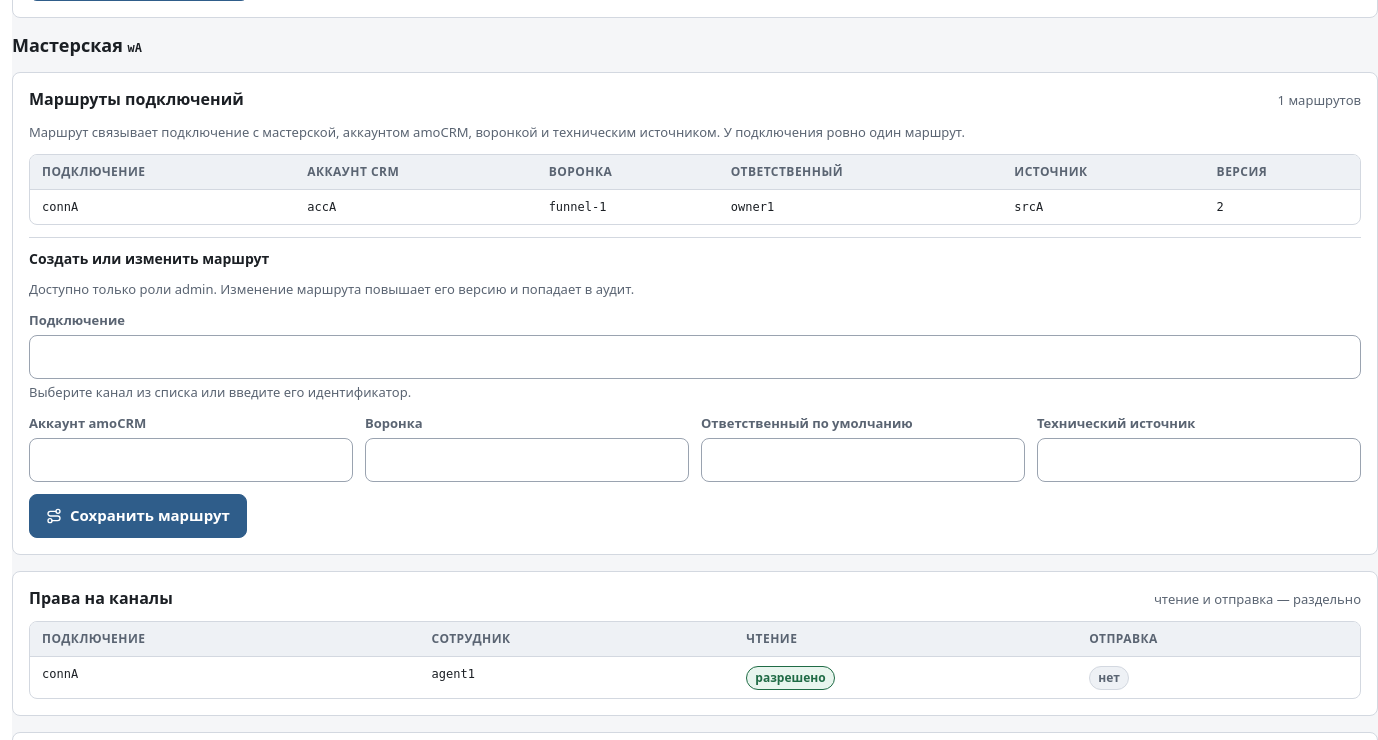
Test: страница мастерских › сохраняет маршрут с текущей версией и сообщает о конфликте
(page scrolled)
Step 1. Type "connA" into the field labelled "Подключение" → (695, 356), box [29, 334, 1361, 378]
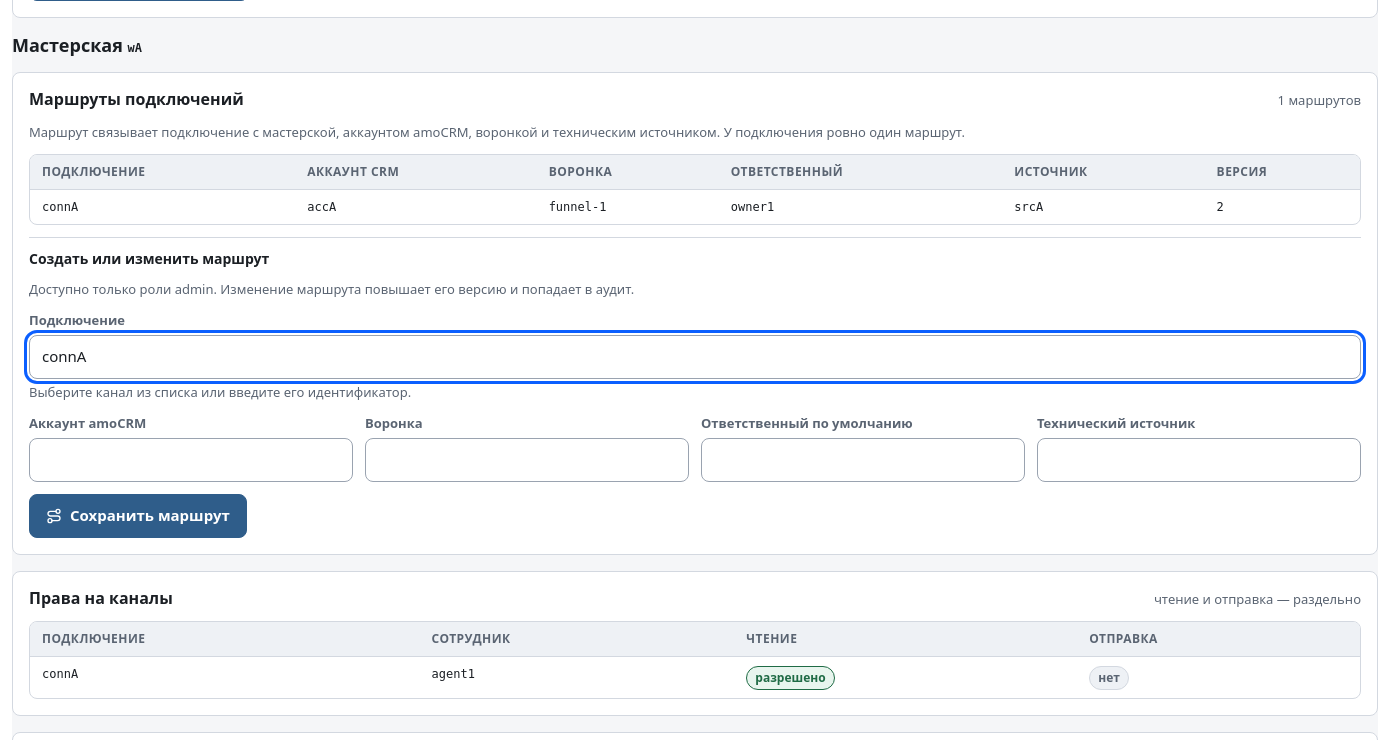
Step 2. Type "accA" into the field labelled "Аккаунт amoCRM" → (191, 460), box [29, 438, 353, 482]
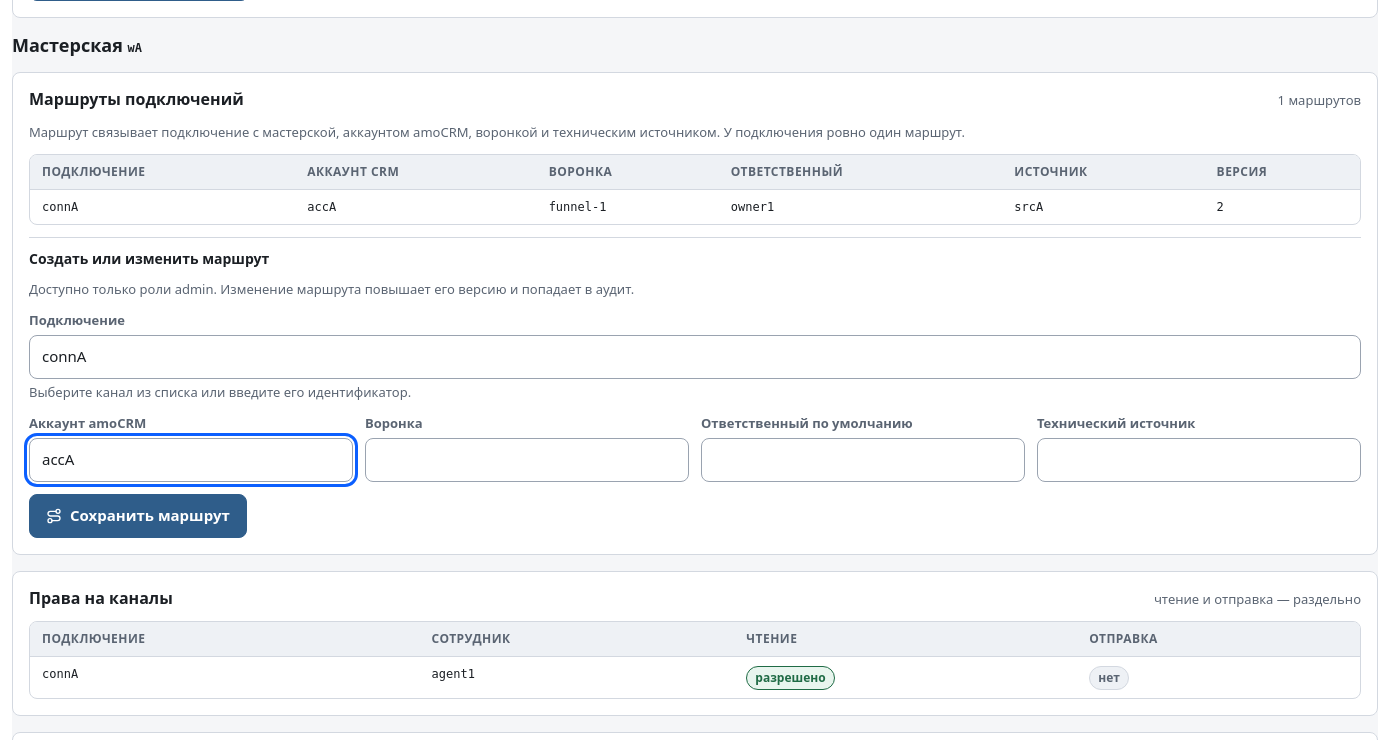
Step 3. Type "funnel-2" into the field labelled "Воронка" → (527, 460), box [365, 438, 689, 482]
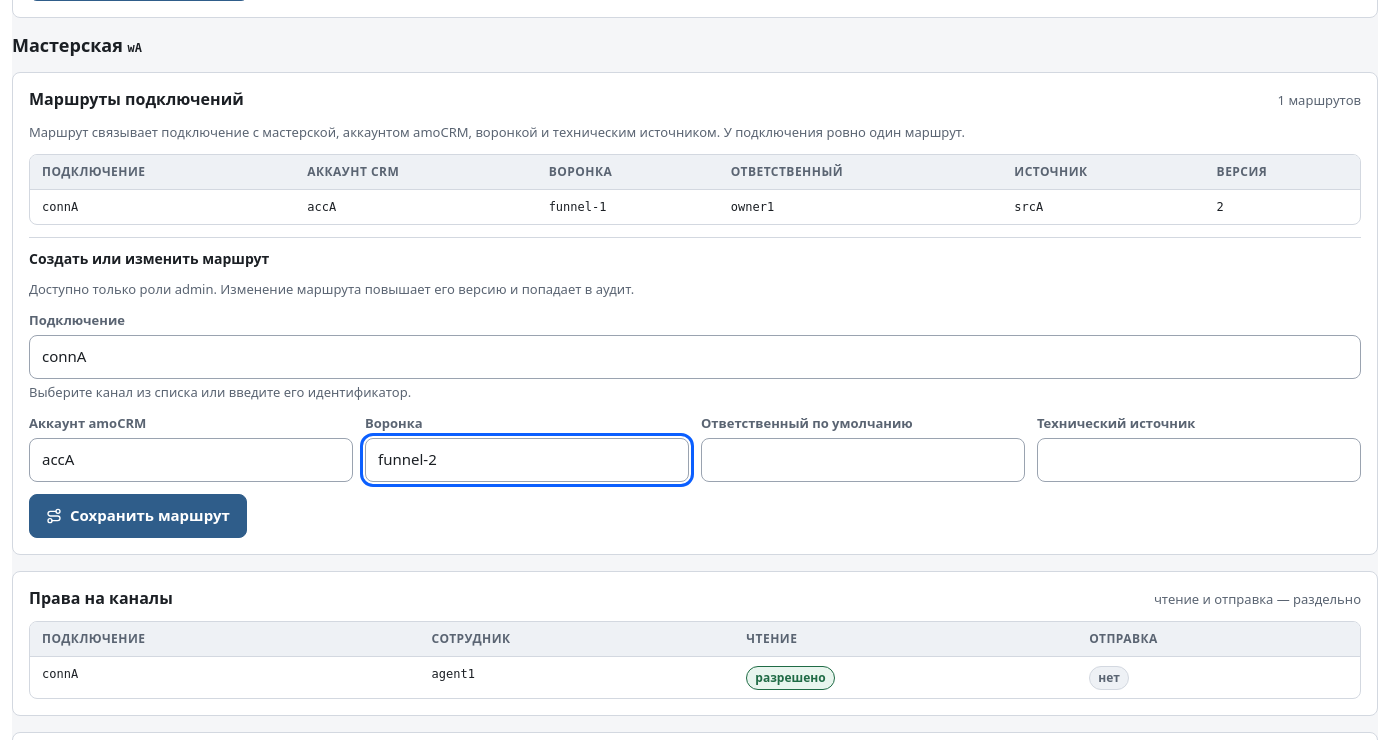
Step 4. Type "owner1" into the field labelled "Ответственный по умолчанию" → (863, 460), box [701, 438, 1025, 482]
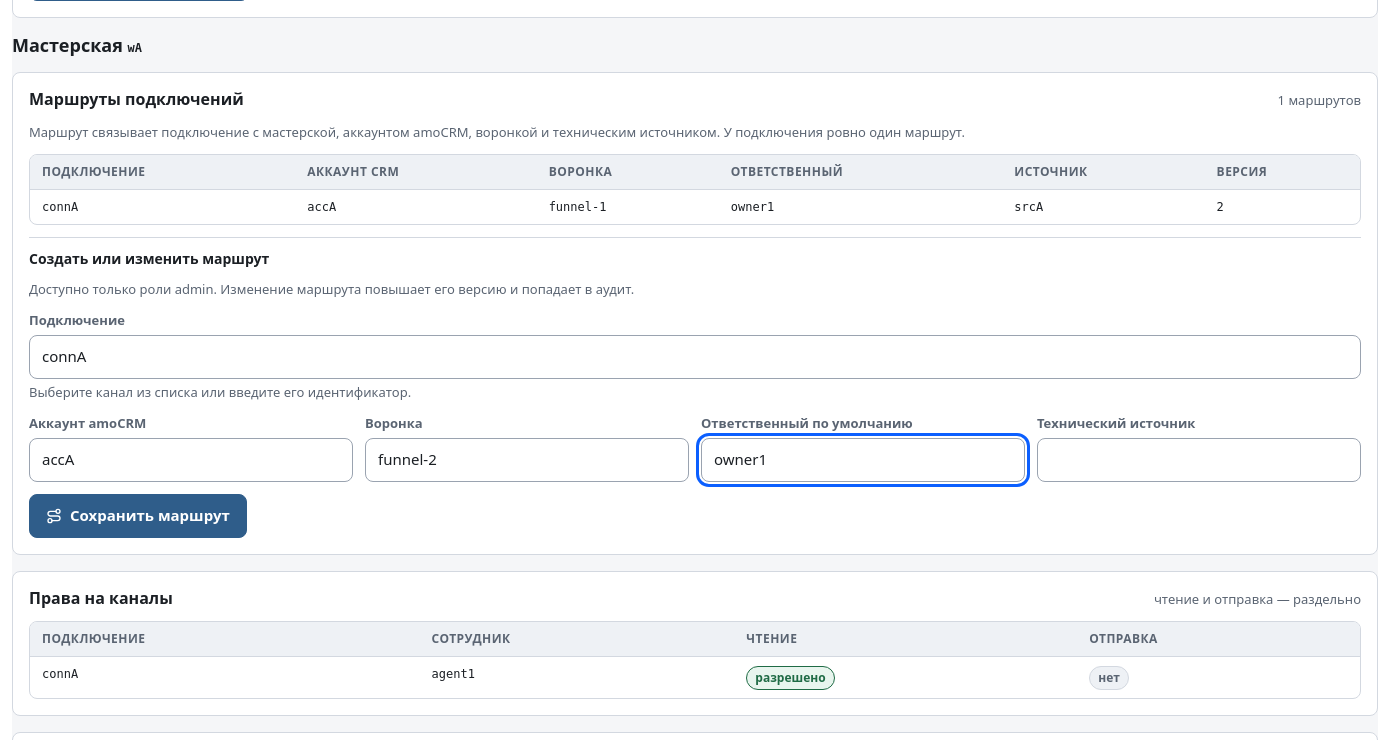
Step 5. Type "srcA" into the field labelled "Технический источник" → (1199, 460), box [1037, 438, 1361, 482]
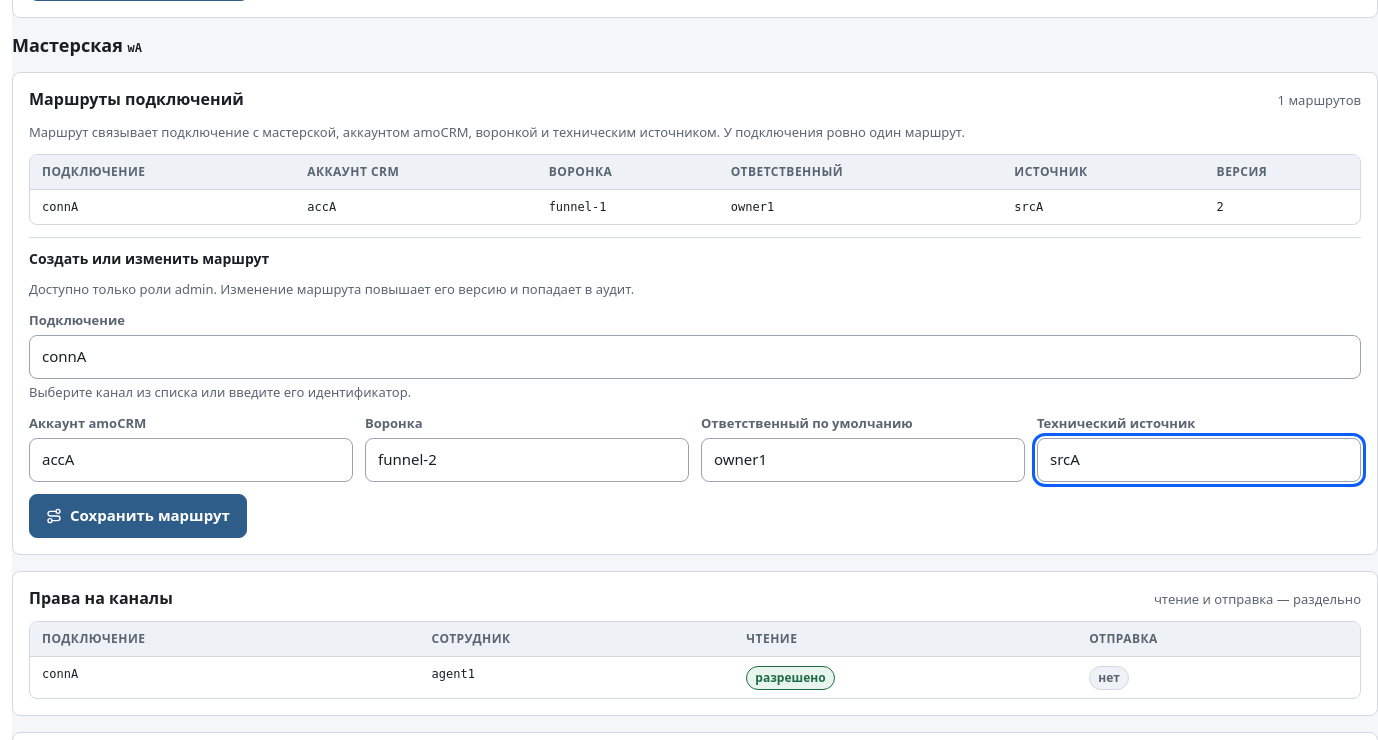
Step 6. Click the button "Сохранить маршрут" → (138, 516), box [29, 494, 247, 538]
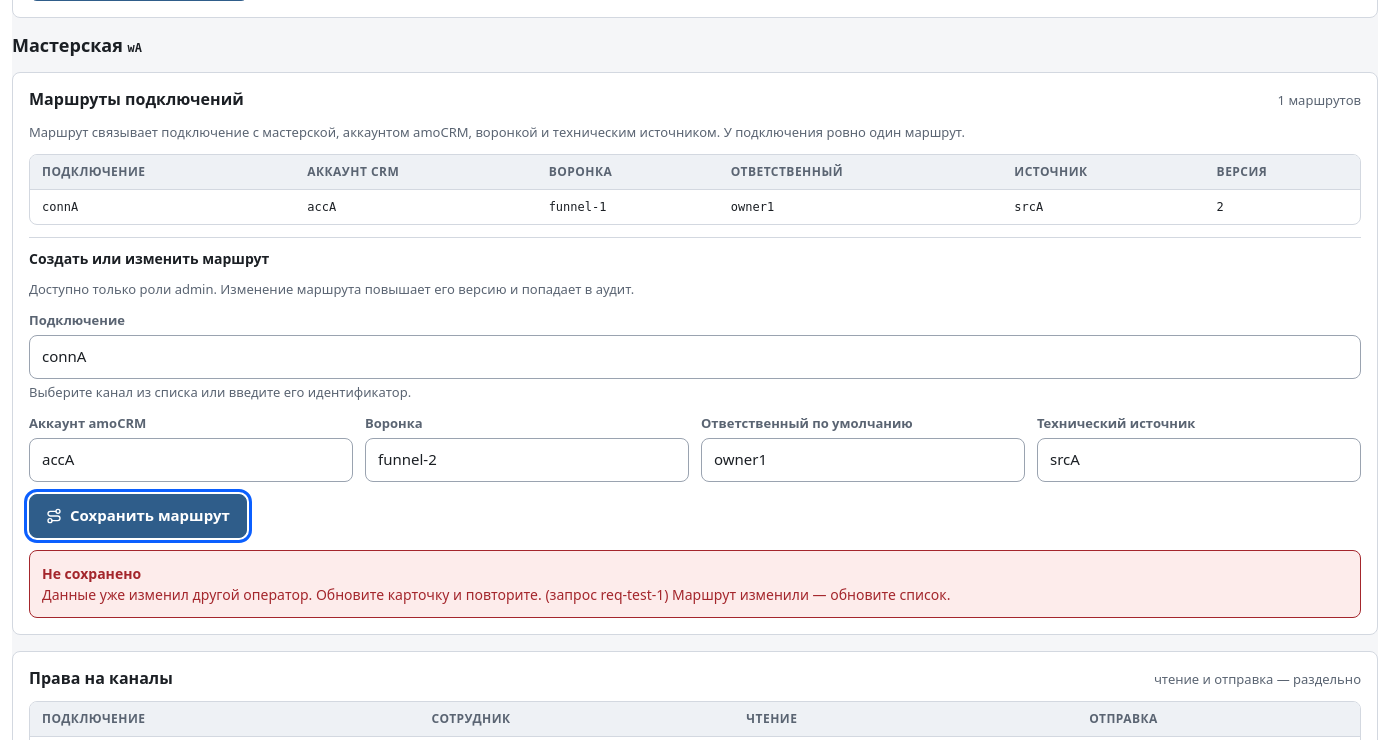
expect the text "Не сохранено" is shown: met, box [42, 564, 141, 582]
